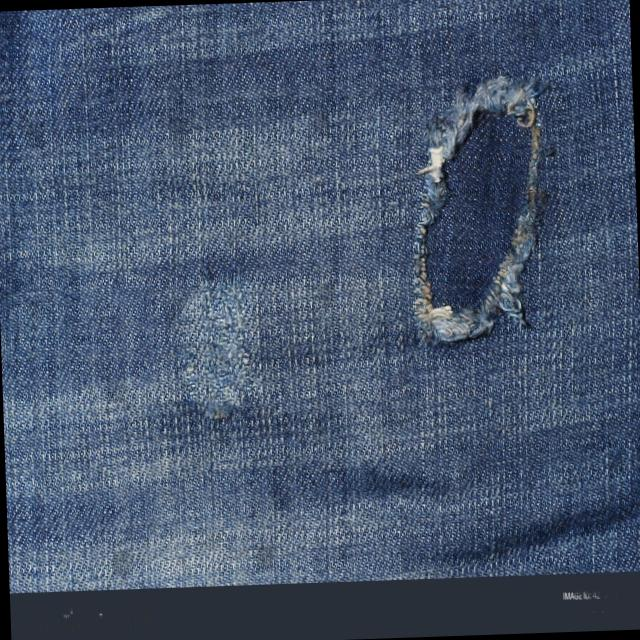cut: (408, 83, 551, 344)
